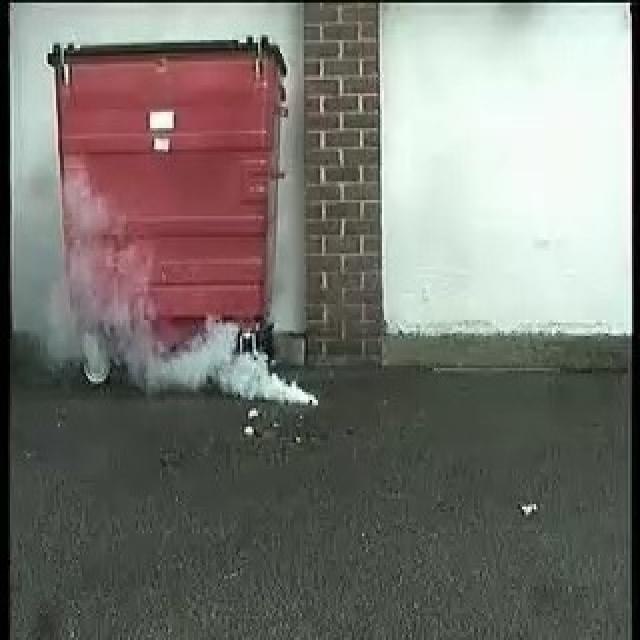smoke: (81, 293, 320, 412)
